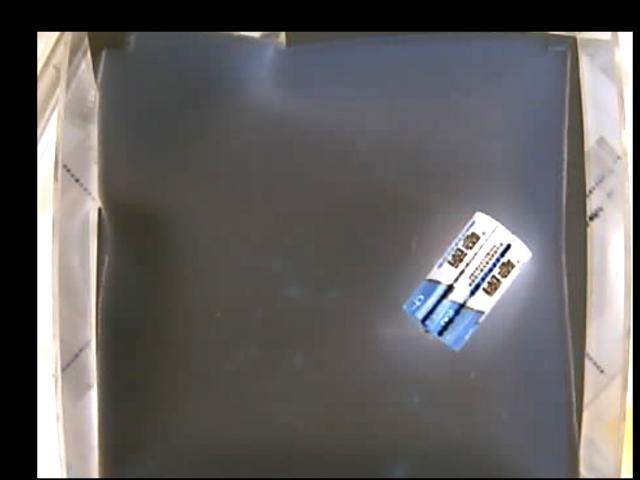Battery: (406, 210, 530, 355)
